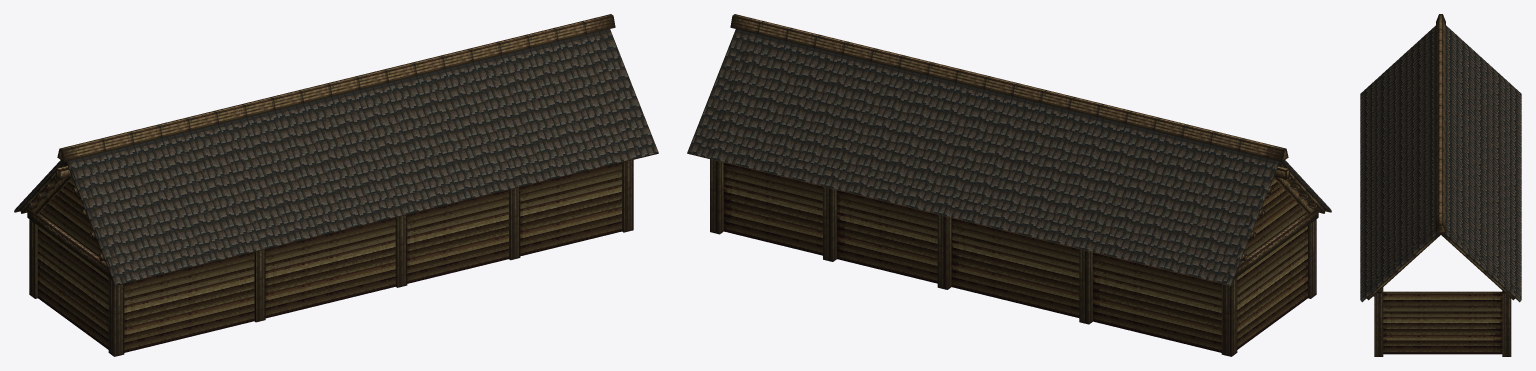
Rendered from EnvBdgMD_WoodHouse_A_Outdoor_House_Ranch.FBX.
3 views of the same model, side by side, from view 1: azimuth 30°, elevation 25°; view 2: azimuth 150°, elevation 25°; view 3: azimuth 270°, elevation 25° (orthographic). The views are drawn at different scales.
Parts seen in each view (by area): view 1: EnvBdgMD_WoodHouse_A_Outdoor_House_Ranch; view 2: EnvBdgMD_WoodHouse_A_Outdoor_House_Ranch; view 3: EnvBdgMD_WoodHouse_A_Outdoor_House_Ranch.
Part boxes in pixels (bbox=[...]): EnvBdgMD_WoodHouse_A_Outdoor_House_Ranch: bbox=[14, 14, 658, 356]; EnvBdgMD_WoodHouse_A_Outdoor_House_Ranch: bbox=[687, 14, 1331, 356]; EnvBdgMD_WoodHouse_A_Outdoor_House_Ranch: bbox=[1360, 14, 1521, 356].
Size of the model in its own units: 1960 by 605 by 629.
1 material, 1 textured.
